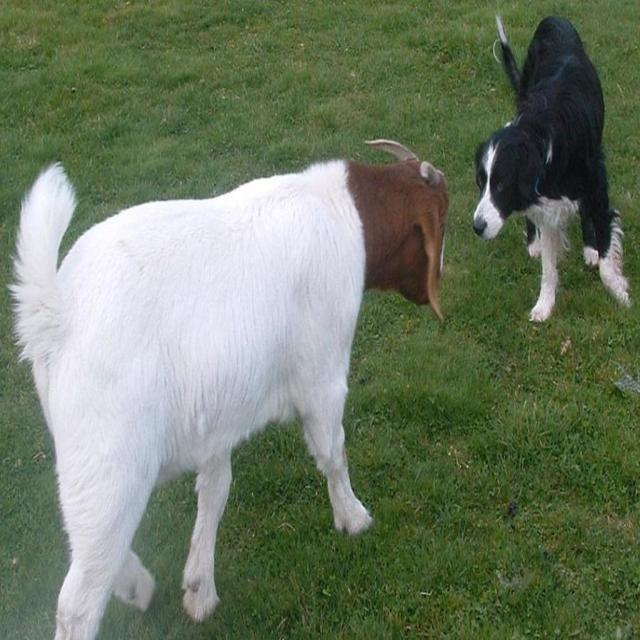Goat: (6, 140, 448, 639)
